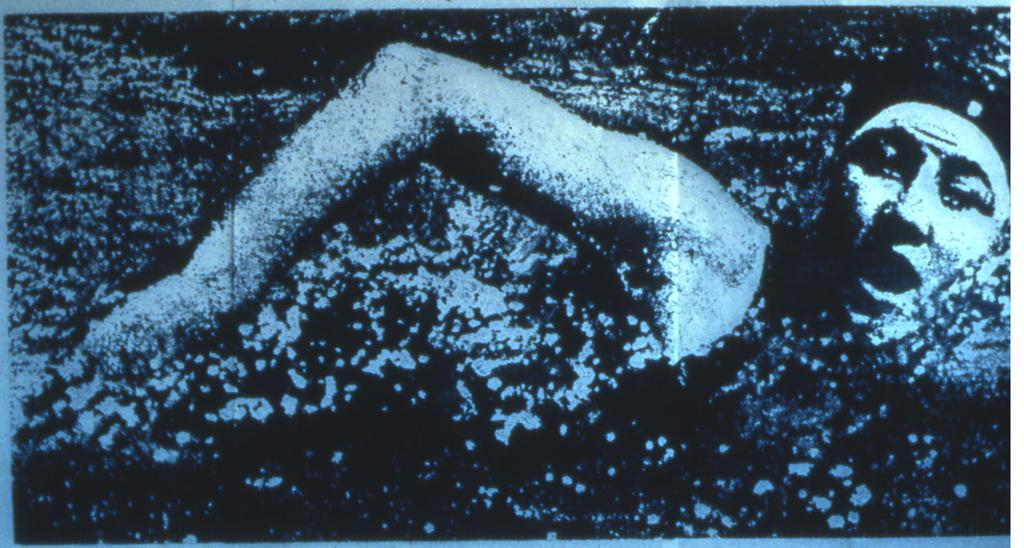face: (830, 114, 1000, 330)
